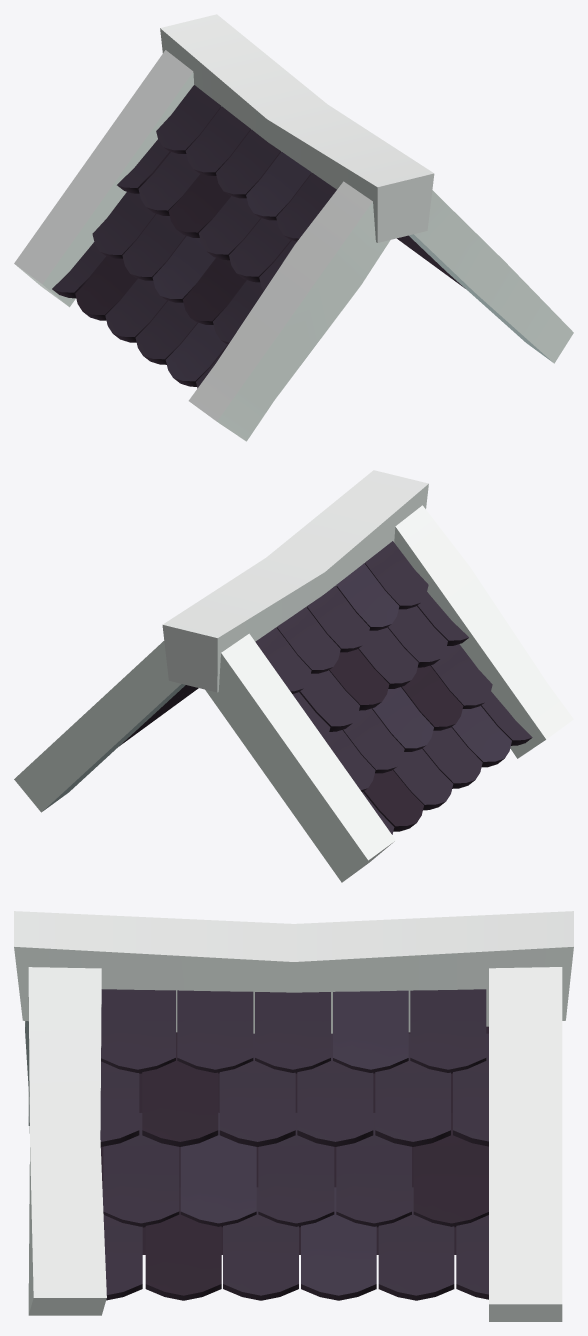
The model's file is Roof01_Black_White.glb.
The picture shows the model from 3 angles, top to bottom: view 1: azimuth 30°, elevation 25°; view 2: azimuth 150°, elevation 25°; view 3: azimuth 270°, elevation 25°; orthographic projection. The views are drawn at different scales.
Visible parts, largest first — view 1: Roof01_Black_White; view 2: Roof01_Black_White; view 3: Roof01_Black_White.
Part boxes in pixels (box(x1,y1,x2,y2)): Roof01_Black_White: box(14, 14, 573, 441); Roof01_Black_White: box(14, 470, 573, 882); Roof01_Black_White: box(14, 911, 573, 1321).
Size of the model in its own units: 2.41 by 1.43 by 2.46.
1 material, 1 textured.
